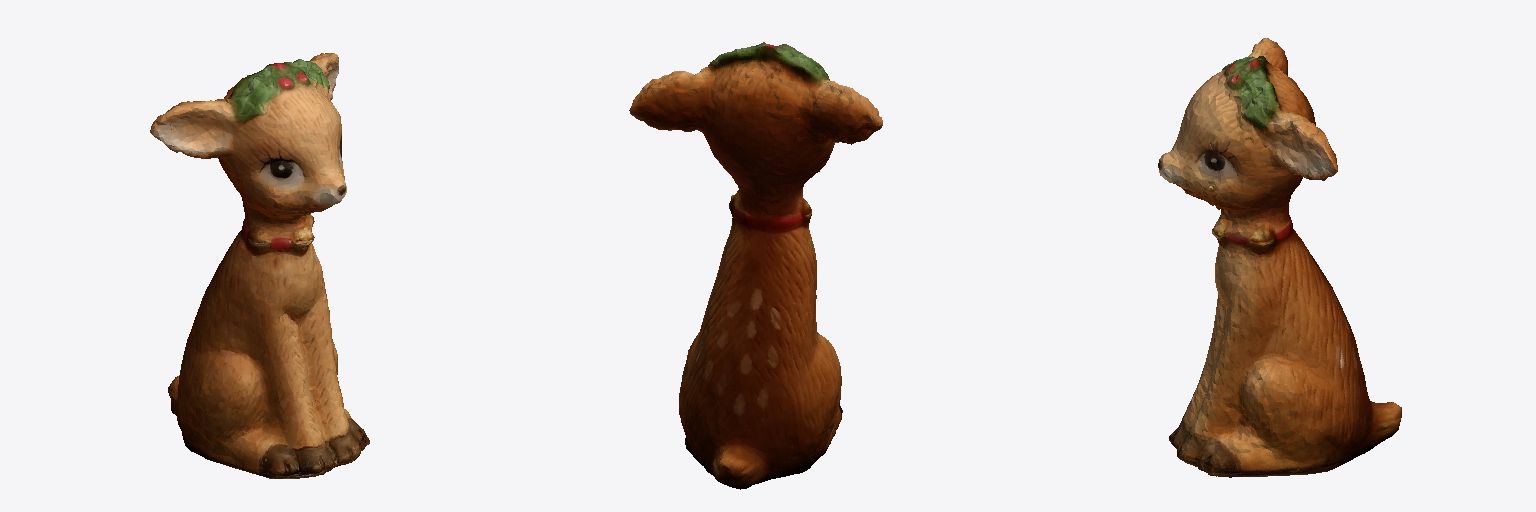
3 renders of one model, left to right at view 1: azimuth 30°, elevation 25°; view 2: azimuth 150°, elevation 25°; view 3: azimuth 270°, elevation 25°, orthographic.
Parts seen in each view (by area): view 1: Xmas_Deer_a; view 2: Xmas_Deer_a; view 3: Xmas_Deer_a.
Part boxes in pixels (x1,y1,x2,y2): Xmas_Deer_a: (150,53,369,478); Xmas_Deer_a: (629,42,882,489); Xmas_Deer_a: (1158,38,1401,477).
Size of the model in its own units: 0.3785 by 0.652 by 0.3622.
Materials: 2 (1 with a texture image).